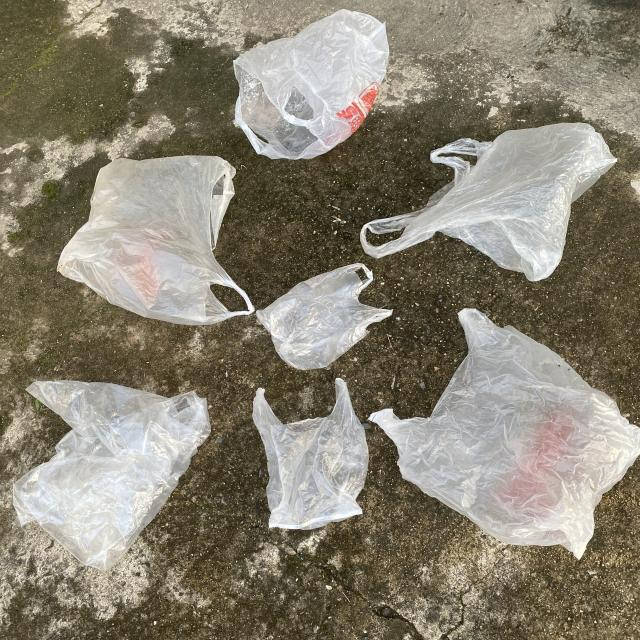Single-layer Plastic: (370, 309, 640, 559), (360, 122, 616, 281), (14, 381, 210, 570), (58, 156, 254, 325), (234, 9, 389, 159), (252, 378, 369, 530), (256, 264, 392, 370)
